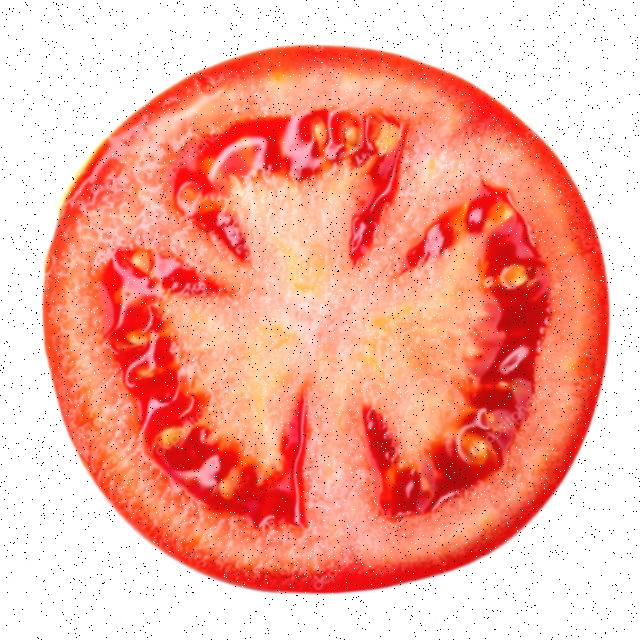Tomato: (25, 21, 604, 590)
